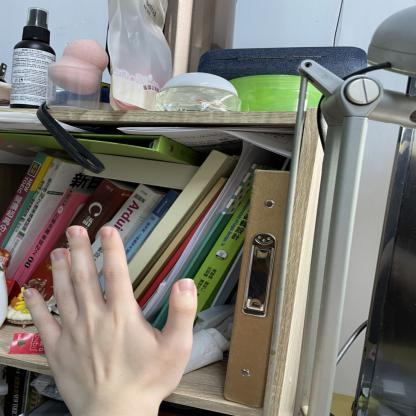bare_hand: (14, 206, 204, 416)
